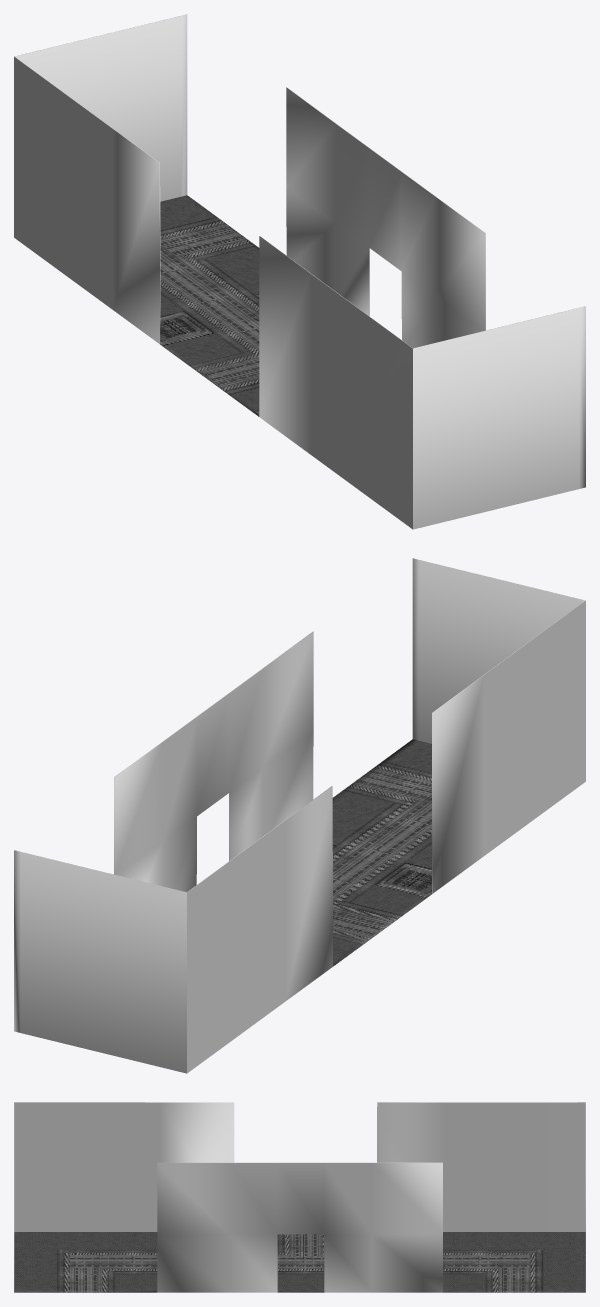
File: corridor_c-3.fbx
The picture shows the model from 3 angles, top to bottom: view 1: azimuth 30°, elevation 25°; view 2: azimuth 150°, elevation 25°; view 3: azimuth 270°, elevation 25°; orthographic projection. The views are drawn at different scales.
Parts seen in each view (by area): view 1: corridor C-3; view 2: corridor C-3; view 3: corridor C-3.
Part boxes in pixels (left/top/right/bottom): corridor C-3: left=14, top=14, right=585, bottom=529; corridor C-3: left=14, top=558, right=585, bottom=1073; corridor C-3: left=14, top=1102, right=585, bottom=1292.
Bounding box in the file's own units: 361 × 361 × 1443.
